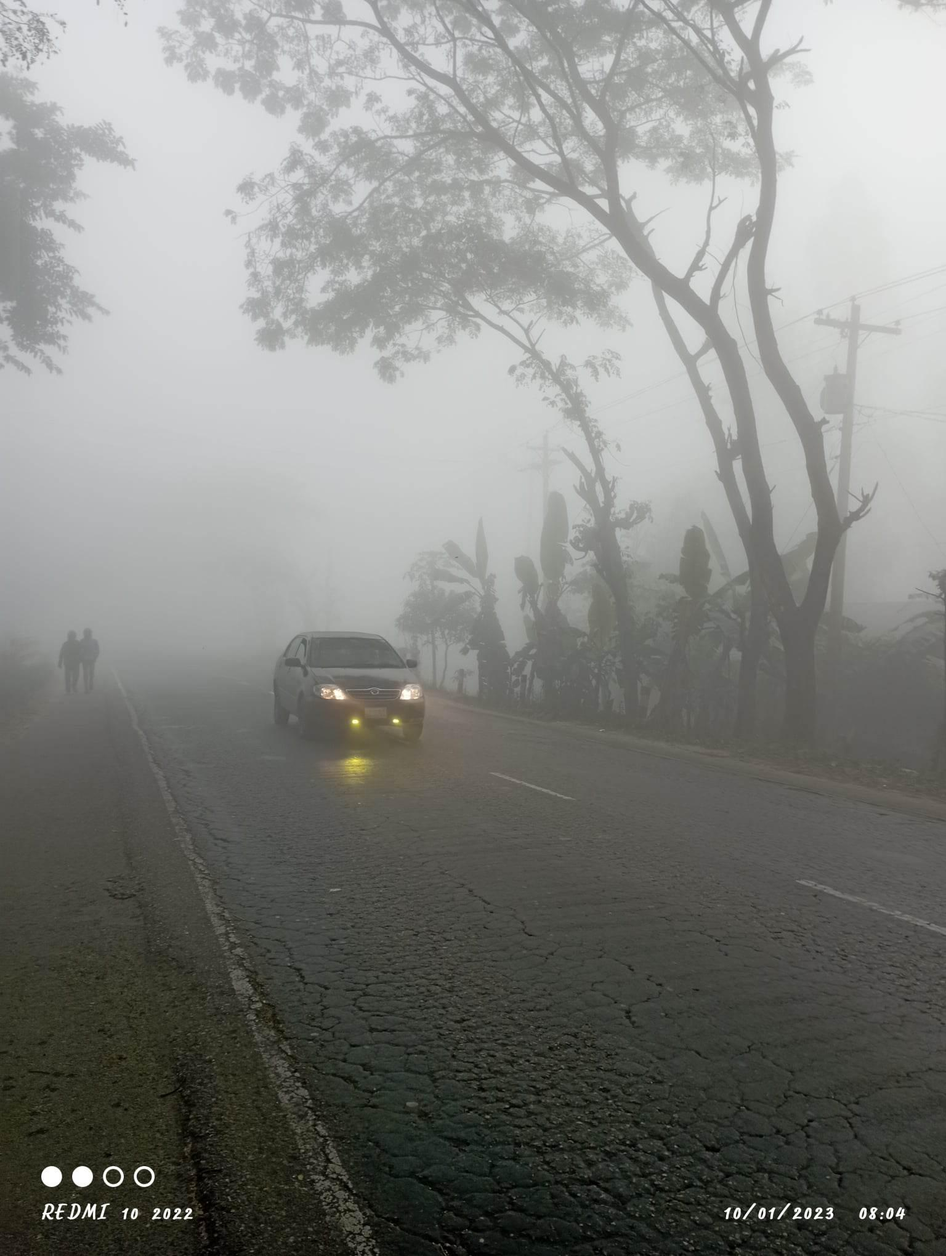Car: (228, 611, 448, 769)
